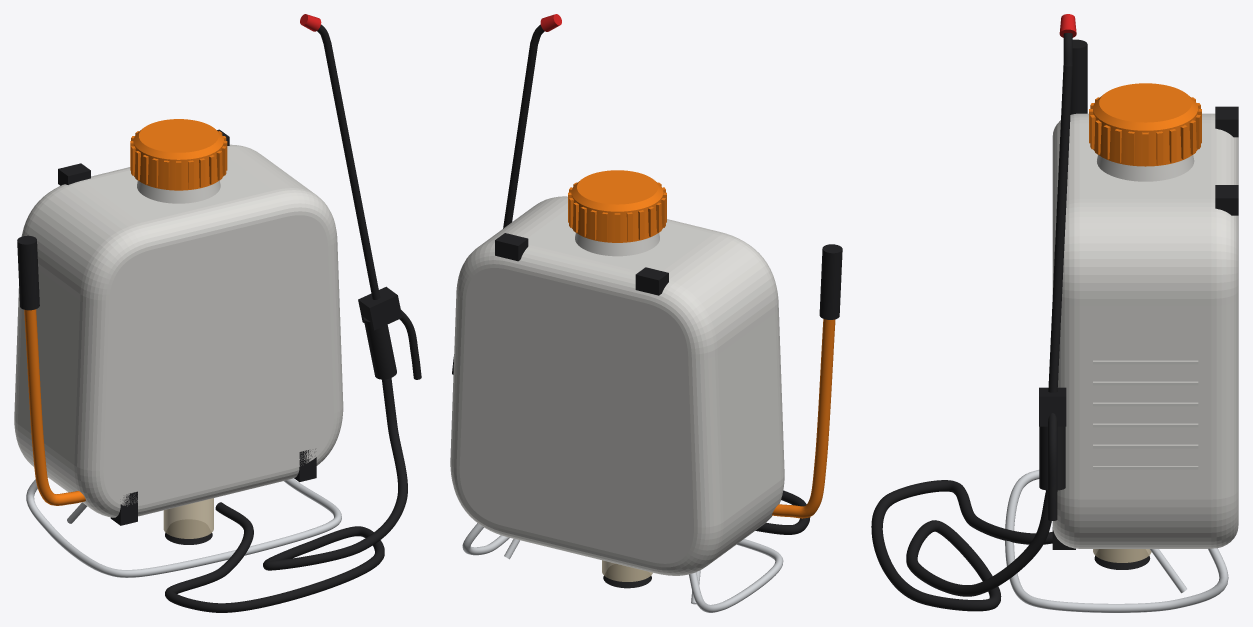
File: sprayer.glb
3 renders of one model, left to right at view 1: azimuth 30°, elevation 25°; view 2: azimuth 150°, elevation 25°; view 3: azimuth 270°, elevation 25°, orthographic. The views are drawn at different scales.
Parts seen in each view (by area): view 1: tank, hose, base_frame, cap_top, pump_lever, lance, pump_chamber, cap, pump_grip, valve_grip, valve_body, filler_neck (+3 smaller); view 2: tank, cap_top, pump_lever, base_frame, lance, cap, pump_grip, filler_neck, hose, strap_clip_top_L, strap_clip_top_R, pump_chamber; view 3: tank, hose, cap_top, base_frame, lance, cap, filler_neck, pump_grip, valve_grip, trigger_lever, valve_body, pump_chamber (+7 smaller).
Boxes of the visible parts, x1=… form: tank: x1=14, y1=144, x2=343, y2=517; hose: x1=165, y1=378, x2=407, y2=612; base_frame: x1=26, y1=478, x2=341, y2=577; cap_top: x1=133, y1=119, x2=223, y2=159; pump_lever: x1=24, y1=309, x2=85, y2=505; lance: x1=323, y1=43, x2=380, y2=299; pump_chamber: x1=163, y1=498, x2=213, y2=538; cap: x1=133, y1=141, x2=223, y2=190; pump_grip: x1=17, y1=235, x2=39, y2=310; valve_grip: x1=363, y1=317, x2=396, y2=379; valve_body: x1=358, y1=286, x2=402, y2=330; filler_neck: x1=137, y1=180, x2=220, y2=203; tank: x1=450, y1=196, x2=784, y2=575; cap_top: x1=571, y1=170, x2=663, y2=211; pump_lever: x1=772, y1=319, x2=835, y2=518; base_frame: x1=462, y1=523, x2=783, y2=612; lance: x1=503, y1=43, x2=537, y2=228; cap: x1=571, y1=192, x2=663, y2=242; pump_grip: x1=819, y1=244, x2=842, y2=319; filler_neck: x1=575, y1=233, x2=659, y2=256; hose: x1=755, y1=490, x2=810, y2=534; strap_clip_top_L: x1=635, y1=267, x2=668, y2=295; strap_clip_top_R: x1=495, y1=233, x2=528, y2=261; pump_chamber: x1=602, y1=560, x2=652, y2=581; tank: x1=1052, y1=113, x2=1238, y2=548; hose: x1=871, y1=480, x2=1057, y2=611; cap_top: x1=1093, y1=83, x2=1198, y2=130; base_frame: x1=1005, y1=470, x2=1228, y2=612; lance: x1=1048, y1=65, x2=1072, y2=392; cap: x1=1093, y1=109, x2=1198, y2=166; filler_neck: x1=1097, y1=155, x2=1194, y2=181; pump_grip: x1=1070, y1=39, x2=1087, y2=114; valve_grip: x1=1039, y1=426, x2=1065, y2=490; trigger_lever: x1=1048, y1=413, x2=1057, y2=520; valve_body: x1=1039, y1=387, x2=1066, y2=426; pump_chamber: x1=1093, y1=549, x2=1151, y2=562.
Bounding box in the file's own units: 0.6809 × 0.8523 × 0.474.
